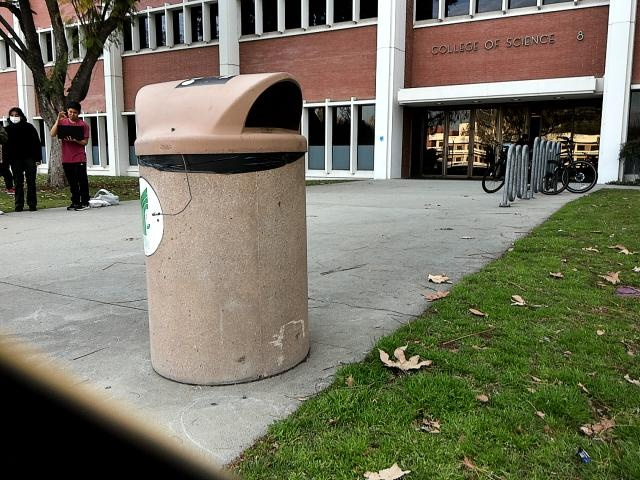trashcan: (127, 58, 325, 386)
